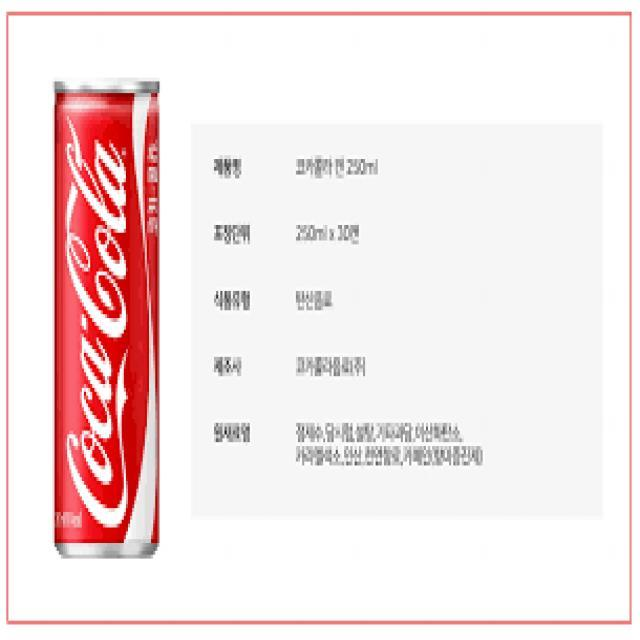coca-cola: (50, 70, 166, 570)
